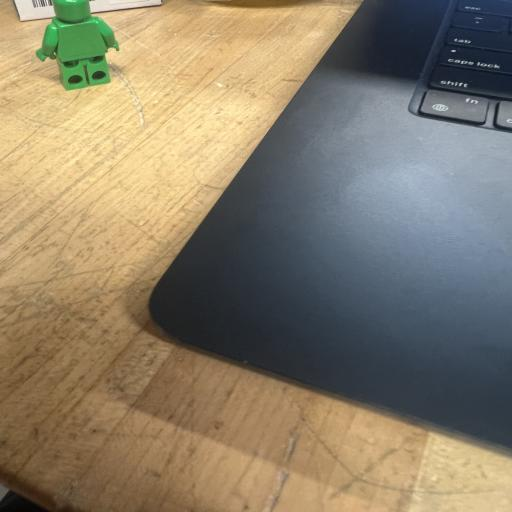green-lego-minifigure-detector: (36, 0, 119, 90)
